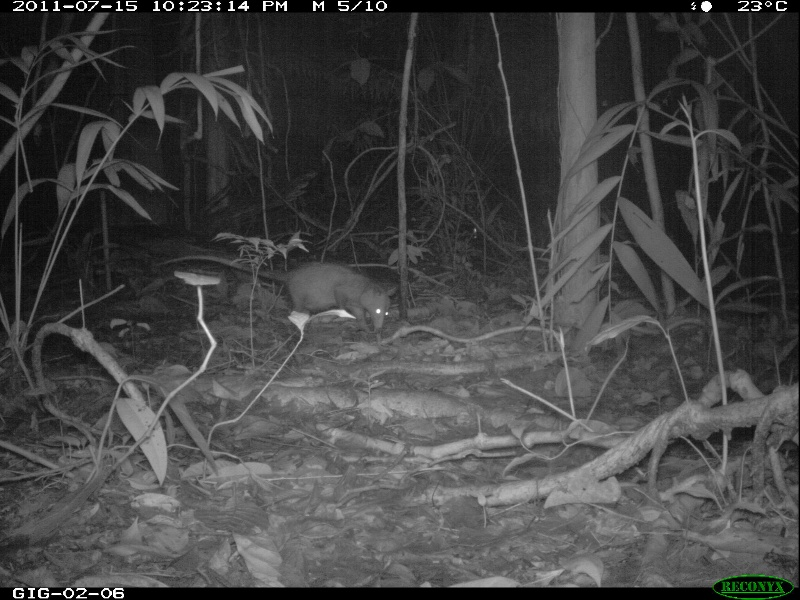opossum: (161, 250, 397, 331)
